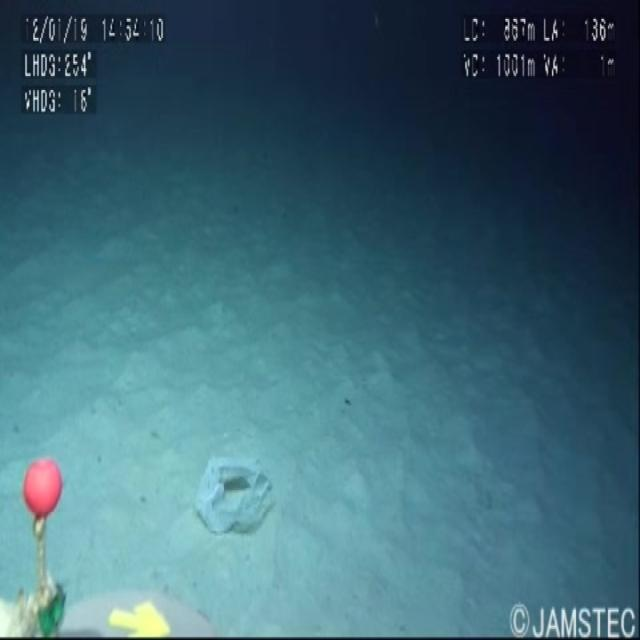Plastic: (190, 442, 290, 566)
